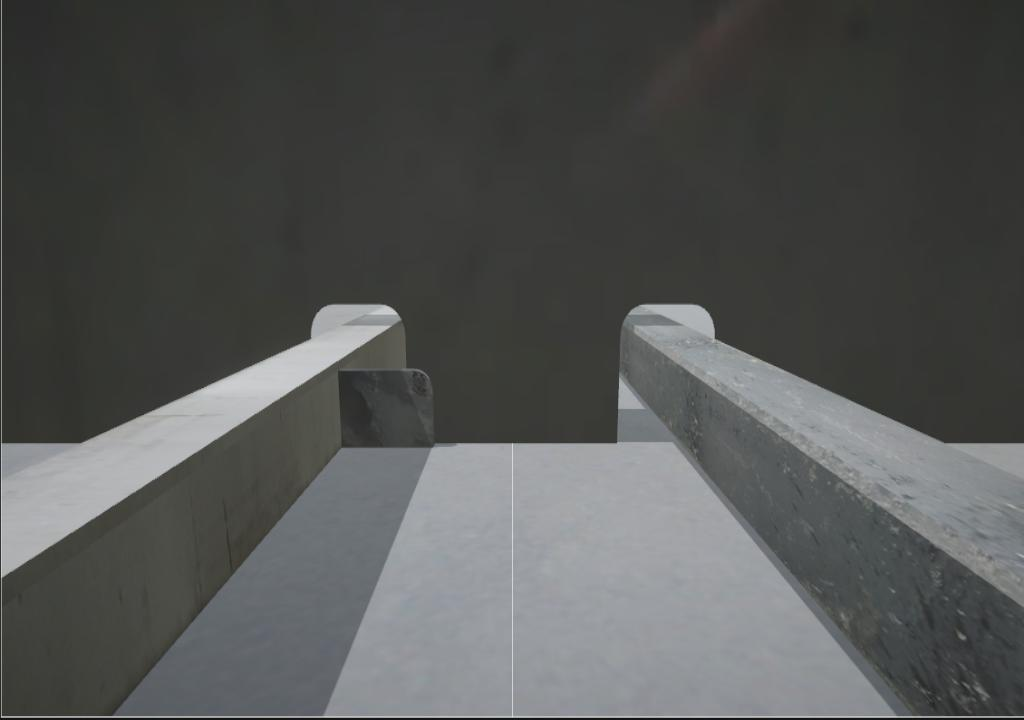fillet_yong_jeop_jang: (434, 435, 622, 452)
plate_CP05: (338, 369, 438, 449)
